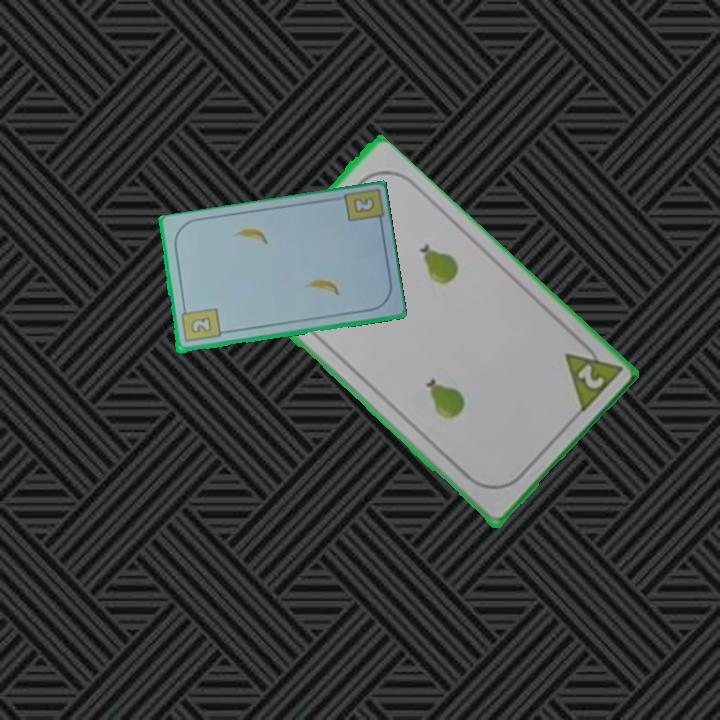2b: (177, 303, 223, 345), (349, 193, 378, 216)
2p: (560, 333, 623, 417)
